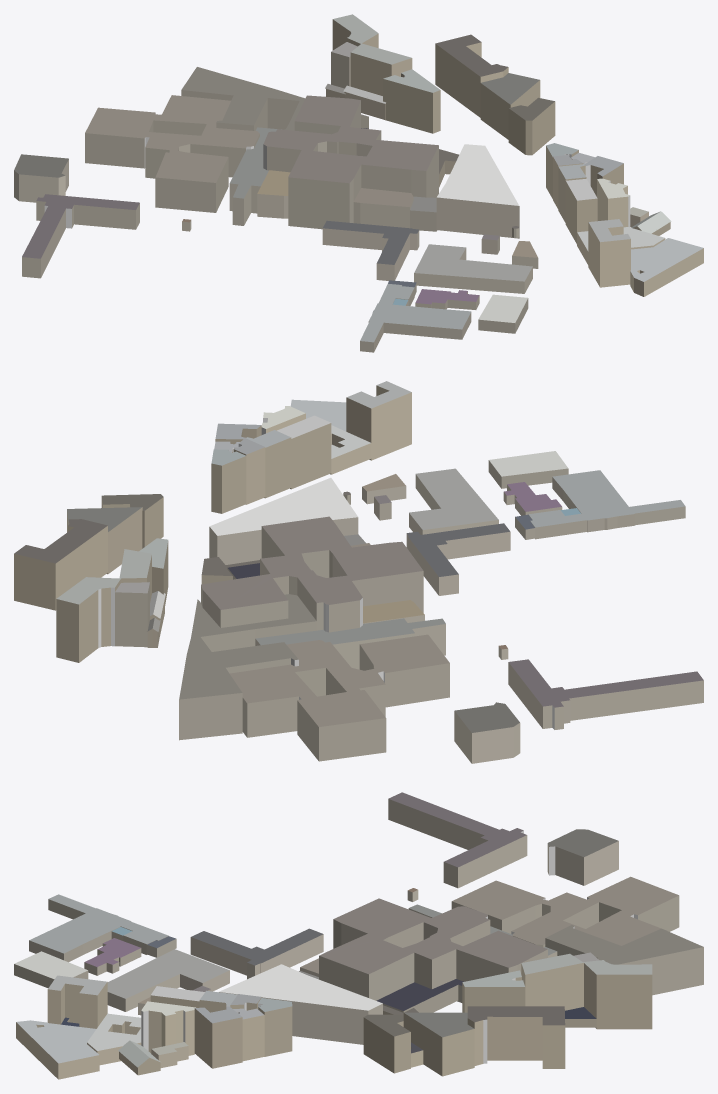
3 views of the same model, one above another, from view 1: azimuth 30°, elevation 25°; view 2: azimuth 150°, elevation 25°; view 3: azimuth 270°, elevation 25° (orthographic). The views are drawn at different scales.
Parts seen in each view (by area): view 1: tuile; view 2: tuile; view 3: tuile.
Part boxes in pixels (x1=…): tuile: x1=14, y1=14, x2=703, y2=352; tuile: x1=14, y1=381, x2=703, y2=763; tuile: x1=14, y1=792, x2=703, y2=1079.
Size of the model in its own units: 298 by 39.1 by 311.
